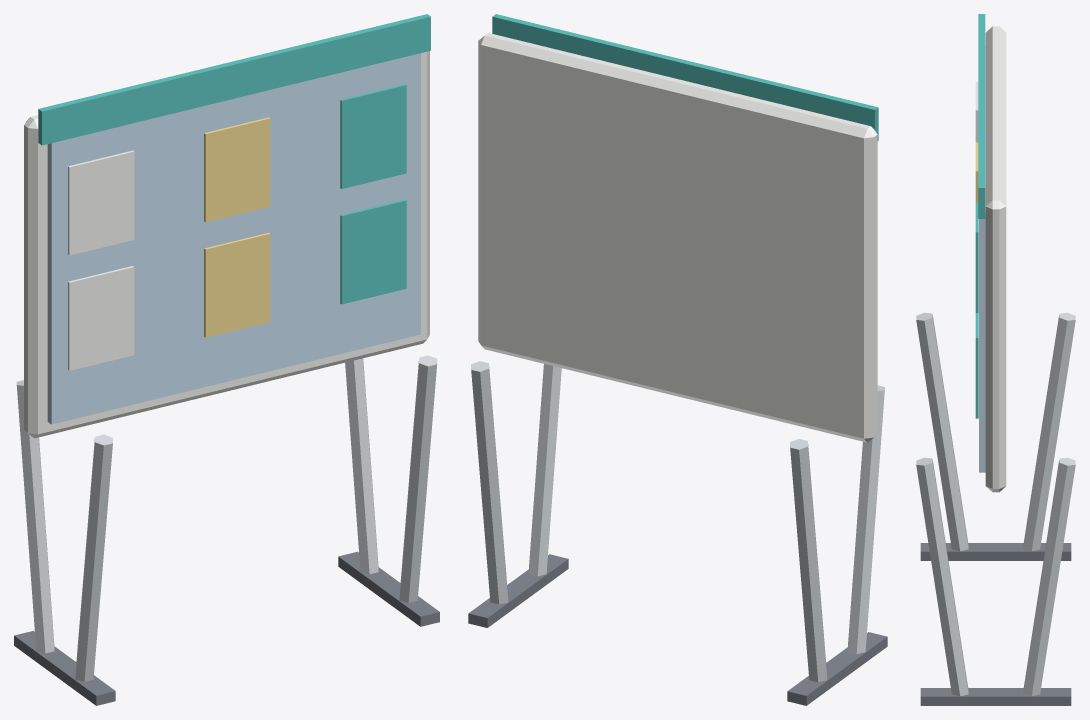
Rendered from medical-23637.glb.
The picture shows the model from 3 angles, left to right: view 1: azimuth 30°, elevation 25°; view 2: azimuth 150°, elevation 25°; view 3: azimuth 270°, elevation 25°; orthographic projection. The views are drawn at different scales.
Visible parts, largest first — view 1: information-board; view 2: information-board; view 3: information-board.
Boxes of the visible parts, x1,y1,x2,y2 form: information-board: [14, 14, 439, 705]; information-board: [468, 14, 887, 705]; information-board: [916, 14, 1075, 705].
Bounding box in the file's own units: 1.24 × 1.7 × 0.4657.
